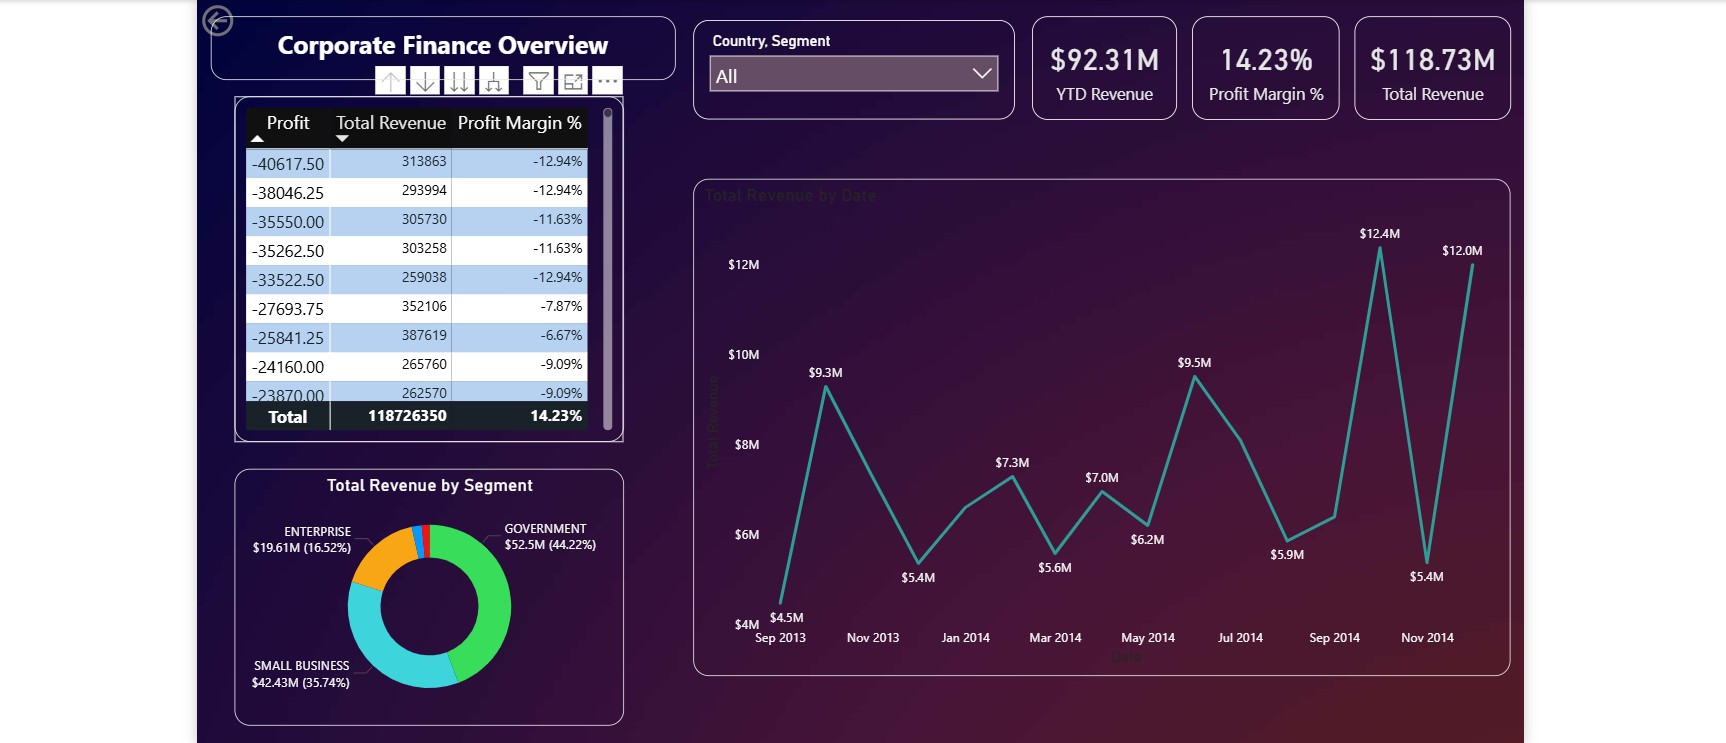

The page's visual inventory and layout, read from the dashboard file:
{"tool":"powerbi","page":{"name":"Page 1","canvas":[1280,720],"ordinal":0},"visuals":[{"type":"card","fields":{"Values":["financials.Profit Margin %"]},"box":[959.9,15.1,142.7,100.2],"z":0},{"type":"card","fields":{"Values":["financials.Total Revenue"]},"box":[1117,15.1,150.9,100.2],"z":1000},{"type":"card","fields":{"Values":["financials.YTD Revenue"]},"box":[805.5,15.1,140,100.2],"z":2000},{"type":"lineChart","fields":{"Category":["financials.Date"],"Y":["financials.Total Revenue"]},"box":[478.9,172.9,789,480.3],"z":3000},{"type":"pivotTable","fields":{"Rows":["financials.Profit","financials.Segment"],"Values":["financials.Total Revenue","financials.Profit Margin %"]},"box":[35.7,93.3,376,333.4],"z":4000},{"type":"slicer","fields":{"Values":["financials.Country","financials.Segment"]},"box":[478.9,19.2,310.1,96.1],"z":5000},{"type":"actionButton","box":[0,0,100,40],"z":6000},{"type":"donutChart","fields":{"Category":["financials.Segment"],"Y":["financials.Total Revenue"]},"box":[35.7,452.8,376,248.4],"z":7000},{"type":"textbox","box":[13.7,15.1,448.7,61.7],"z":7001}]}

Visuals, with their boxes on the page's 1280x720 design canvas (x1, y1, x2, y2). These are canvas units, not pixel positions in the 1726x743 screenshot, which may show the page scaled, cropped or inside an application window:
card - financials.Profit Margin %: Rect(960, 15, 1103, 115)
card - financials.Total Revenue: Rect(1117, 15, 1268, 115)
card - financials.YTD Revenue: Rect(806, 15, 946, 115)
lineChart - financials.Date x financials.Total Revenue: Rect(479, 173, 1268, 653)
pivotTable - financials.Profit x financials.Segment: Rect(36, 93, 412, 427)
slicer - financials.Country x financials.Segment: Rect(479, 19, 789, 115)
actionButton: Rect(0, 0, 100, 40)
donutChart - financials.Segment x financials.Total Revenue: Rect(36, 453, 412, 701)
textbox: Rect(14, 15, 462, 77)
